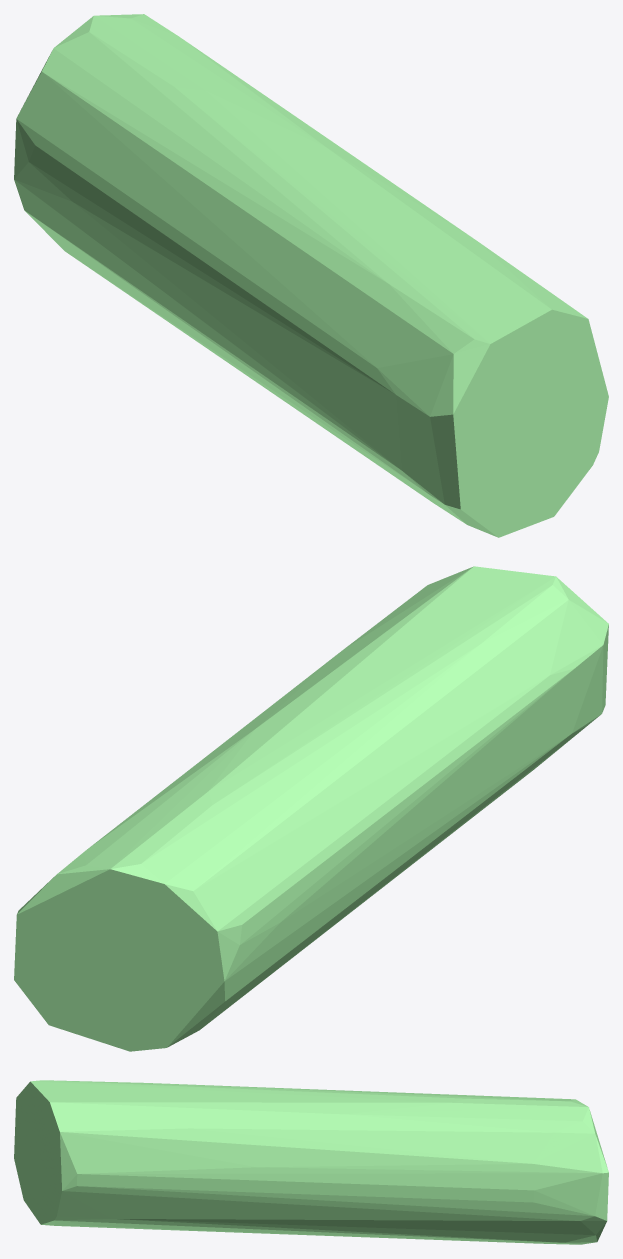
File: dvkr_robot_R_link5_respondable_coll_3.dae
3 views of the same model, one above another, from view 1: azimuth 30°, elevation 25°; view 2: azimuth 150°, elevation 25°; view 3: azimuth 270°, elevation 25° (orthographic). The views are drawn at different scales.
Visible parts, largest first — view 1: Node_0000023514CD8050; view 2: Node_0000023514CD8050; view 3: Node_0000023514CD8050.
Boxes of the visible parts, <box> form: Node_0000023514CD8050: <box>14,14,608,537</box>; Node_0000023514CD8050: <box>14,566,608,1051</box>; Node_0000023514CD8050: <box>14,1080,608,1244</box>.
Bounding box in the file's own units: 0.0692 × 0.0716 × 0.2714.
